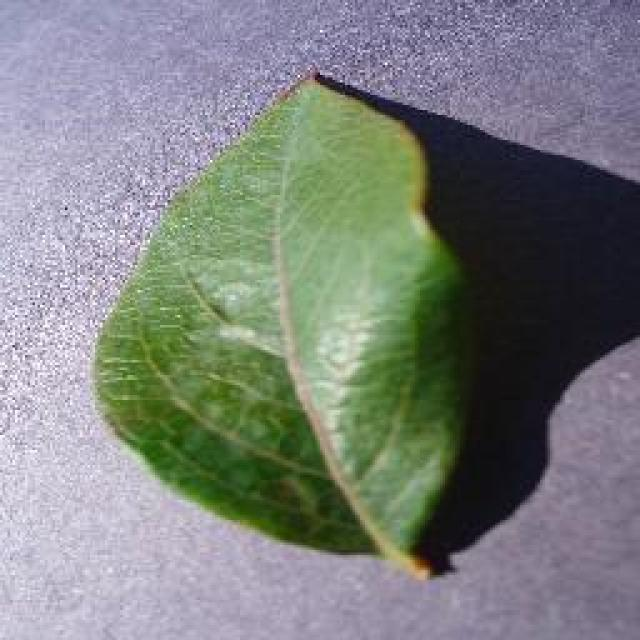Blu_healthy: (112, 133, 470, 522)
